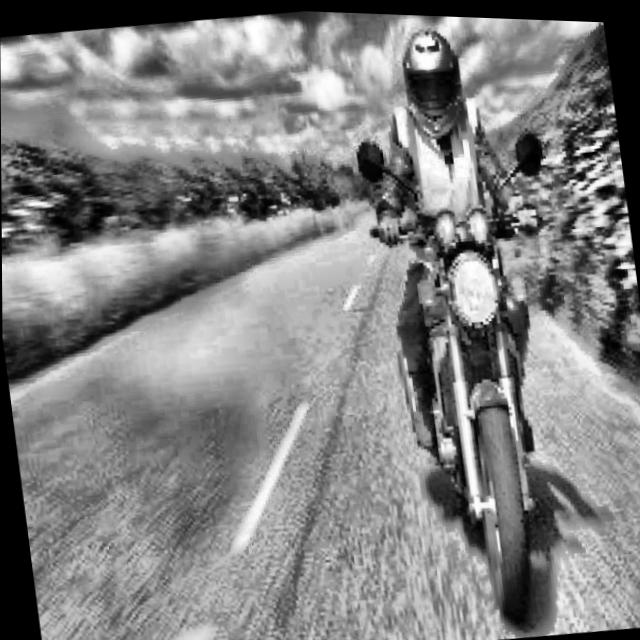motorcycle: (329, 100, 626, 640)
